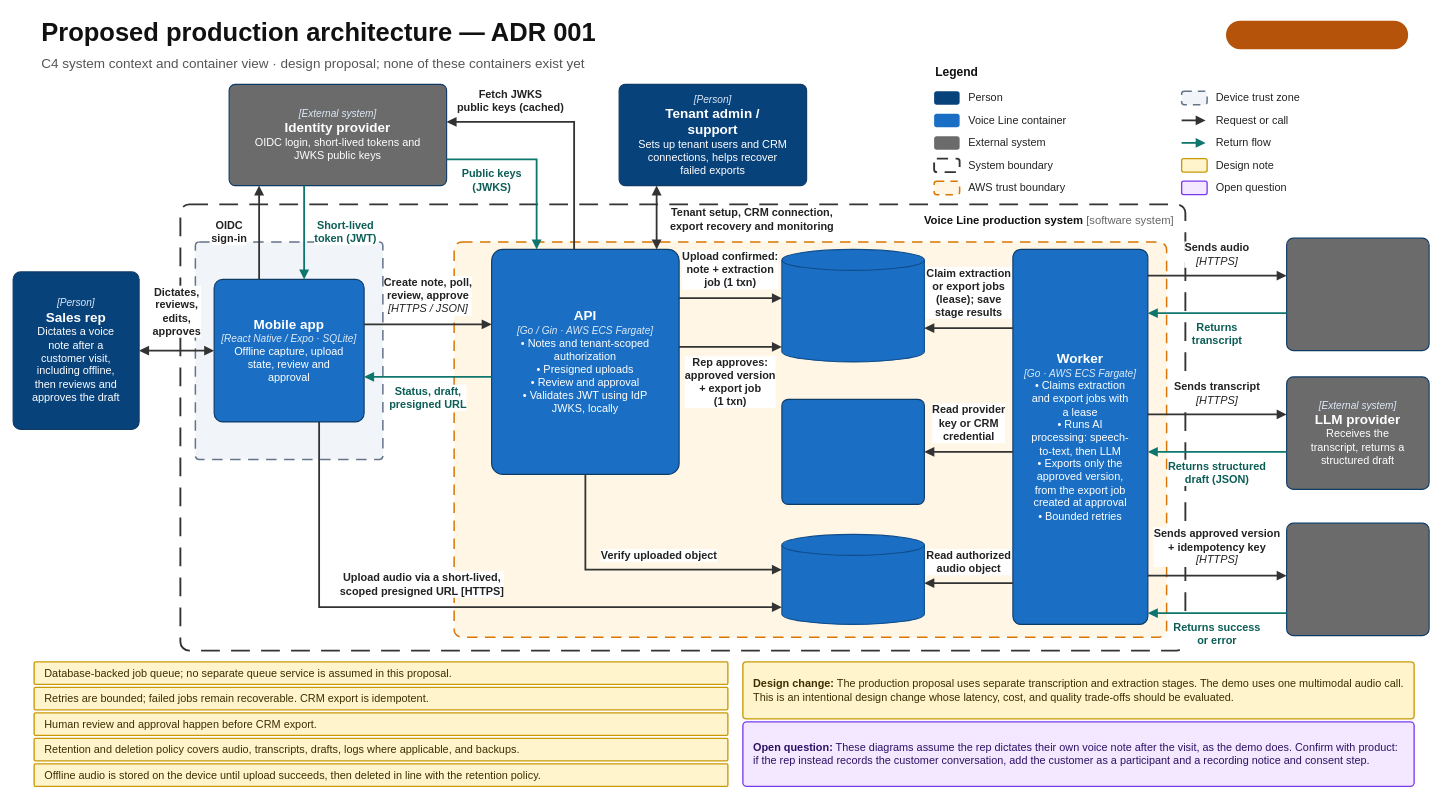
The diagram is 1443 pixels wide and 800 high, and some of its shapes have lost their labels. Here are the shapes that lost their labels. From the top down, the box of each, then its label:
(1226, 20, 1408, 49): PROPOSED · not implemented
(781, 248, 925, 362): PostgreSQL [AWS RDS] Note state, transcripts, drafts, extraction and export jobs
(1286, 237, 1429, 351): [External system] Speech-to-text provider Receives audio, returns a transcript
(194, 241, 383, 460): Rep's device
(453, 241, 1167, 638): AWS — hosting and trust boundary
(781, 398, 925, 505): AWS Secrets Manager Provider keys and tenant CRM credentials
(781, 533, 925, 625): Audio store [AWS S3] Uploaded audio
(1286, 522, 1429, 636): [External system] Tenant CRM Receives the rep- approved note
